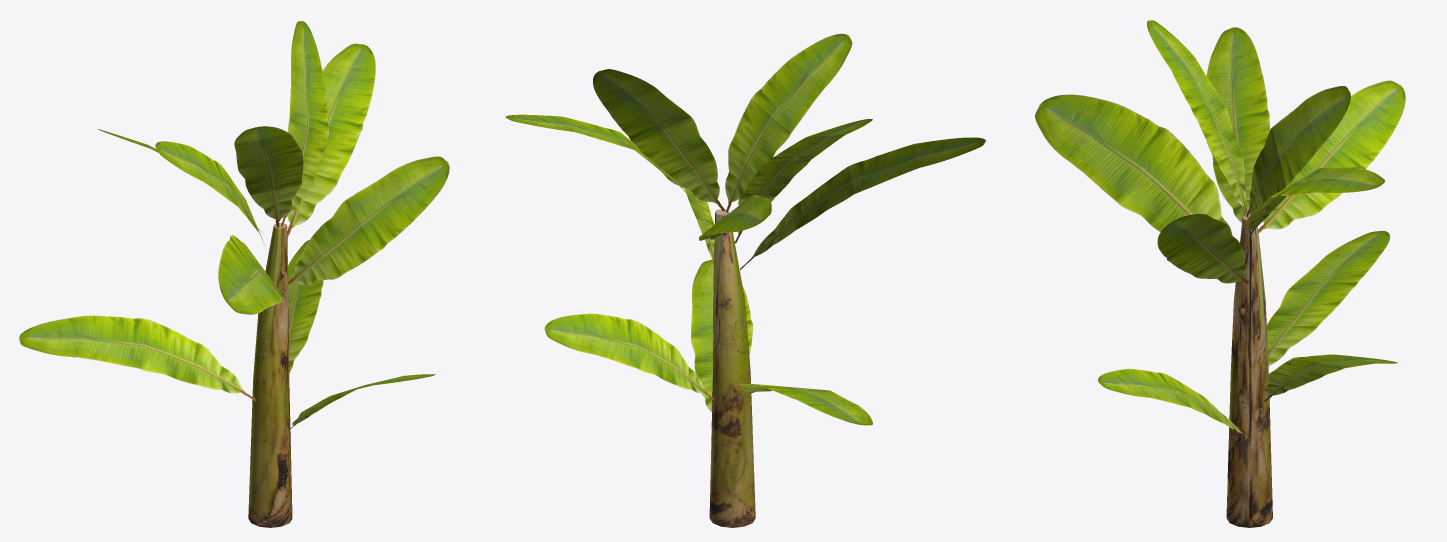
Rendered from BananaTree2.fbx.
3 renders of one model, left to right at view 1: azimuth 30°, elevation 25°; view 2: azimuth 150°, elevation 25°; view 3: azimuth 270°, elevation 25°, orthographic. The views are drawn at different scales.
Visible parts, largest first — view 1: BananaTree 2; view 2: BananaTree 2; view 3: BananaTree 2.
Boxes of the visible parts, x1=… form: BananaTree 2: x1=18, y1=20, x2=449, y2=527; BananaTree 2: x1=505, y1=33, x2=985, y2=527; BananaTree 2: x1=1035, y1=20, x2=1405, y2=527.
Size of the model in its own units: 299 by 339 by 266.
Materials: 2 (2 with a texture image).
